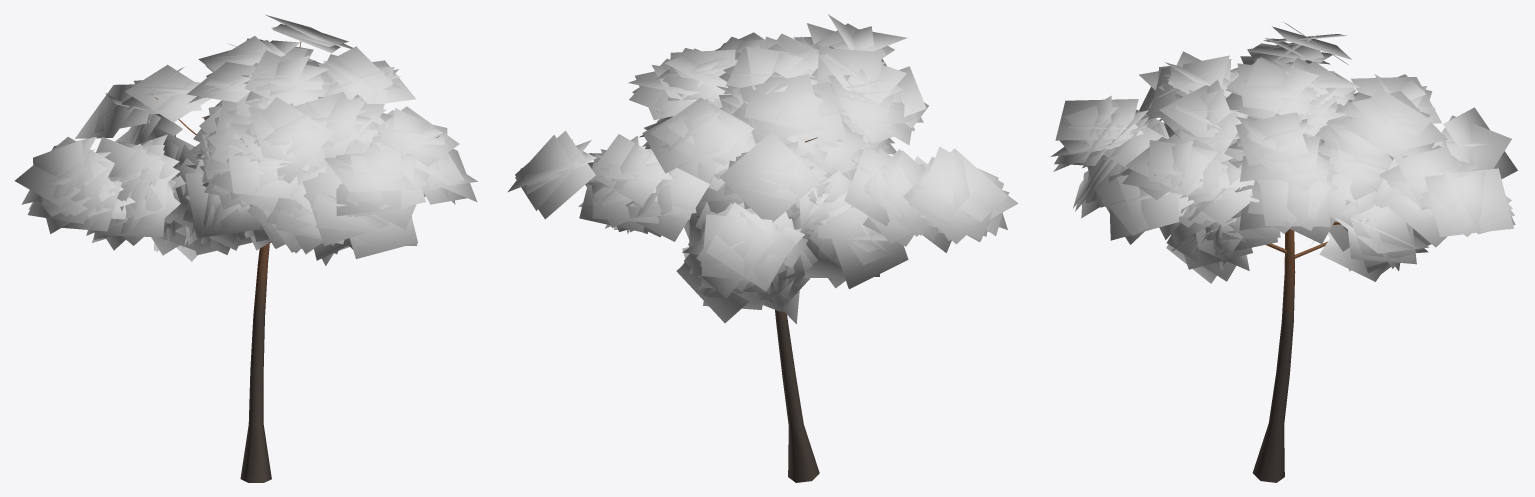
3 views of the same model, side by side, from view 1: azimuth 30°, elevation 25°; view 2: azimuth 150°, elevation 25°; view 3: azimuth 270°, elevation 25° (orthographic). The views are drawn at different scales.
Visible parts, largest first — view 1: crown, trunk; view 2: crown, trunk; view 3: crown, trunk.
Part boxes in pixels (x1,y1,x2,y2): crown: (14, 14, 477, 265); trunk: (151, 41, 439, 482); crown: (507, 14, 1018, 323); trunk: (775, 137, 819, 482); crown: (1050, 21, 1517, 283); trunk: (1155, 62, 1341, 482).
Bounding box in the file's own units: 19.9 × 19.65 × 19.81.
